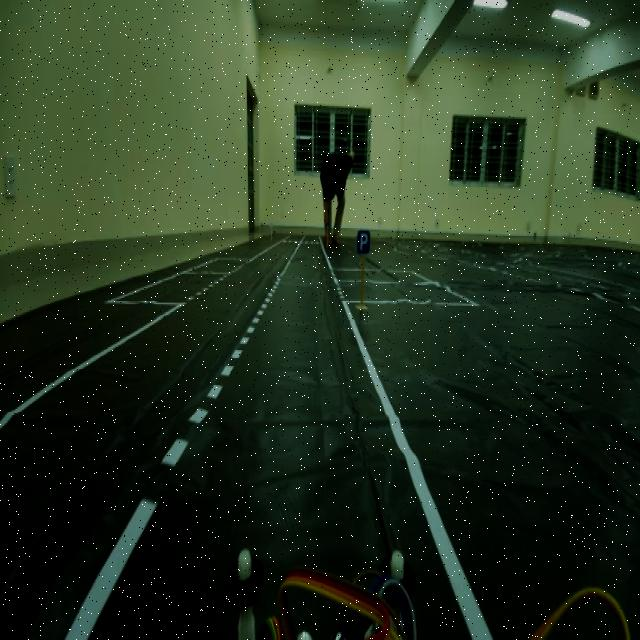parking: (353, 221, 373, 261)
